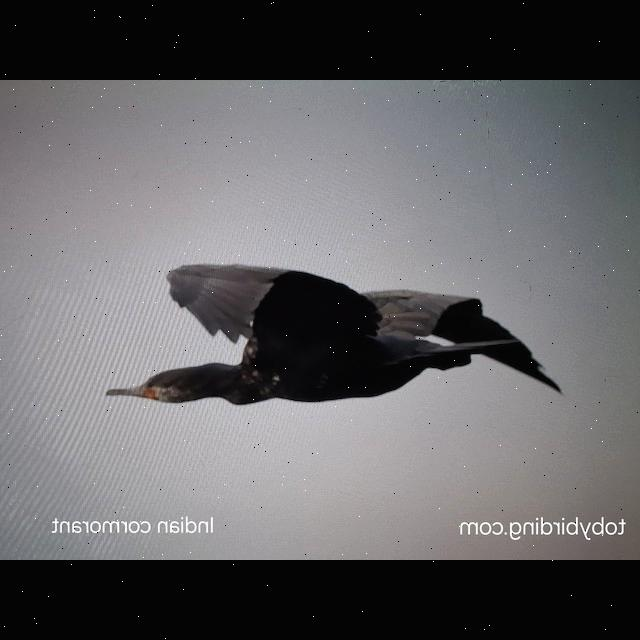cormorant: (103, 252, 582, 410)
